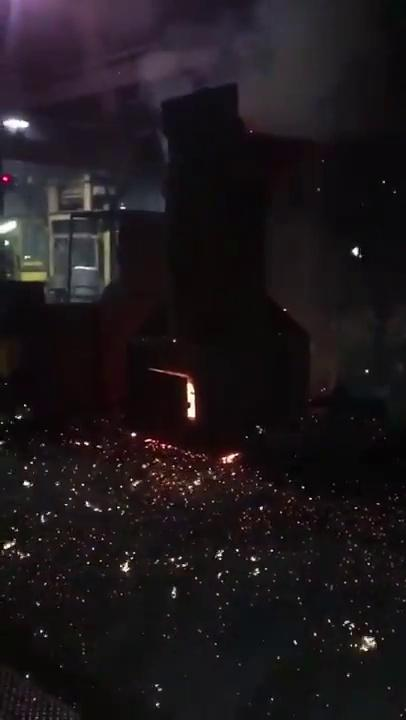fire: (74, 345, 292, 497)
